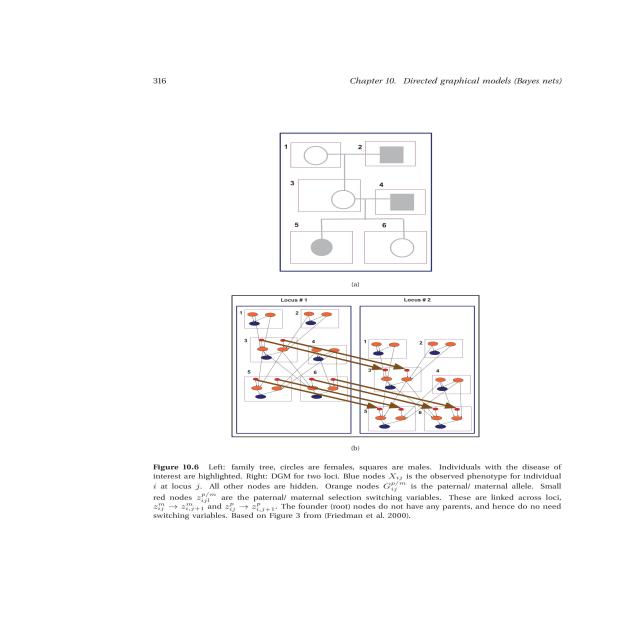diagram: (124, 105, 581, 557)
